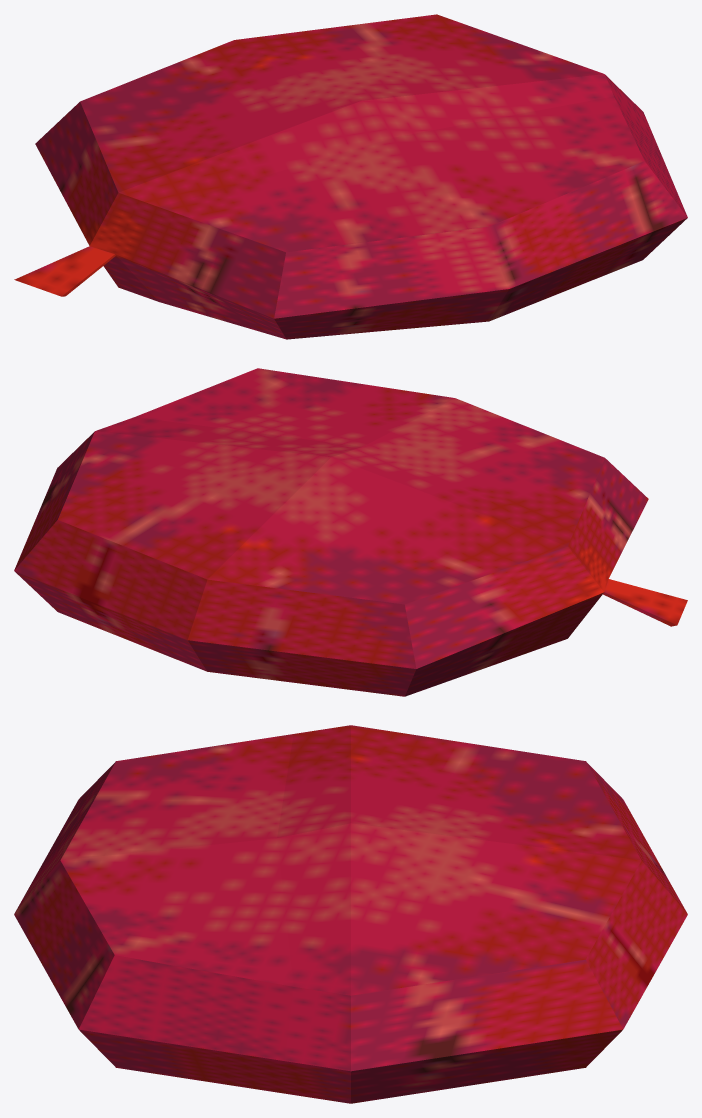
The model's file is cushion.fbx.
3 views of the same model, one above another, from view 1: azimuth 30°, elevation 25°; view 2: azimuth 150°, elevation 25°; view 3: azimuth 270°, elevation 25° (orthographic). The views are drawn at different scales.
Parts seen in each view (by area): view 1: whoppeecushion; view 2: whoppeecushion; view 3: whoppeecushion.
Part boxes in pixels (bbox=[...]): whoppeecushion: bbox=[14, 14, 687, 339]; whoppeecushion: bbox=[14, 368, 687, 696]; whoppeecushion: bbox=[14, 725, 687, 1103].
Bounding box in the file's own units: 355 × 89.39 × 287.
